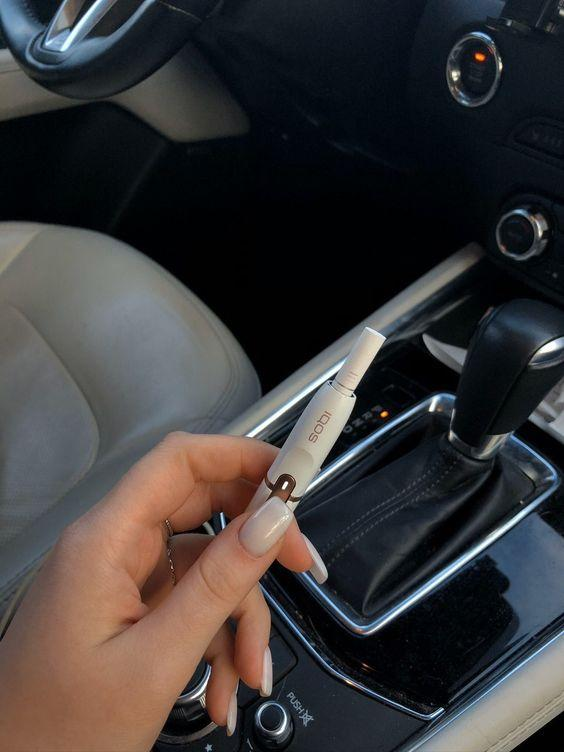iqos: (247, 327, 385, 520)
